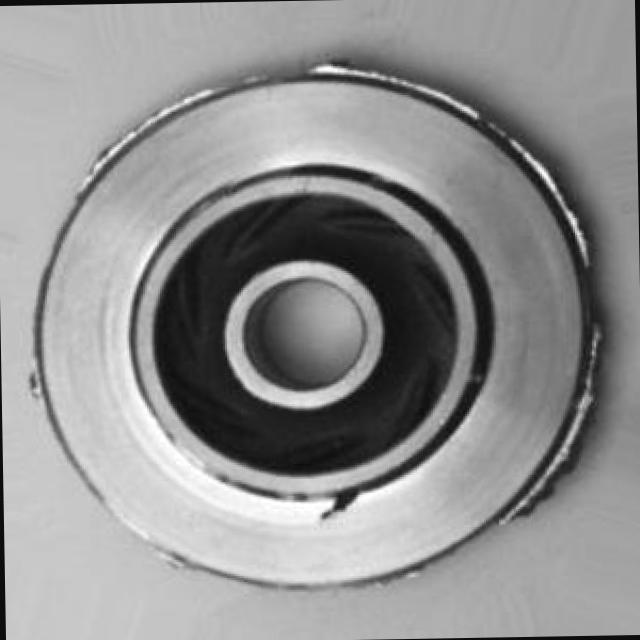Defect: (309, 478, 370, 522)
